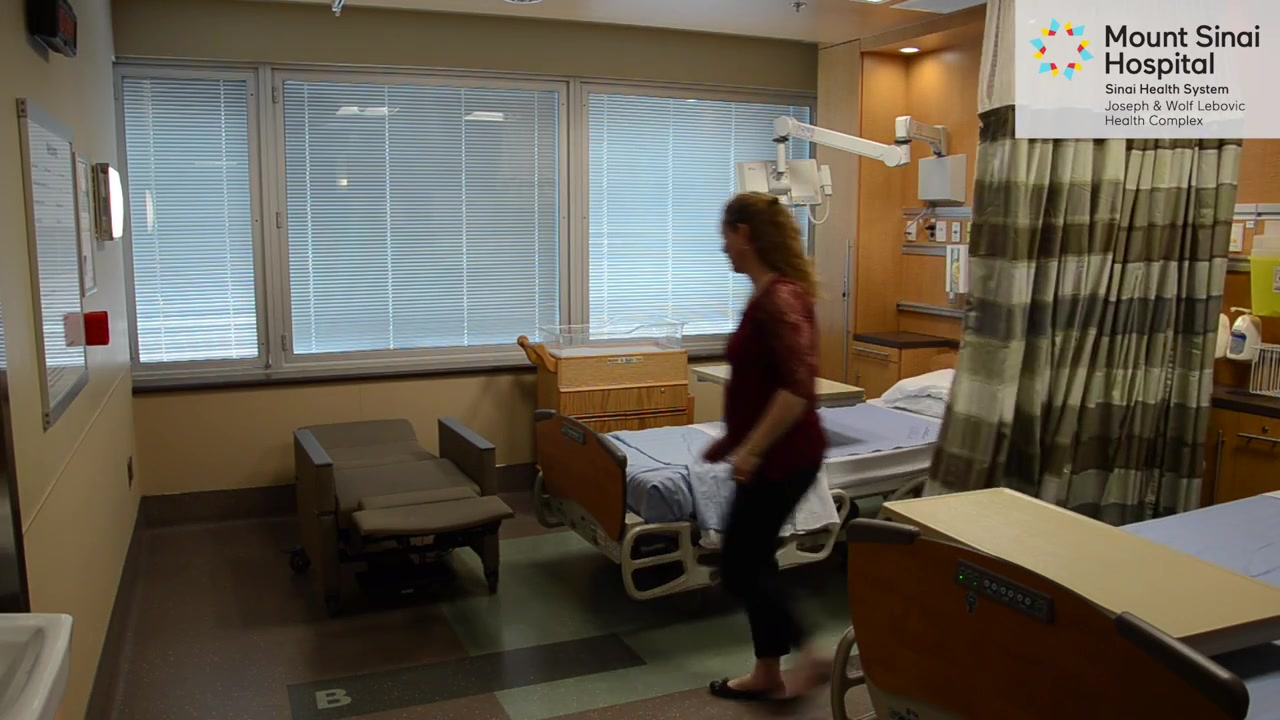bedrail: (615, 486, 858, 602), (829, 625, 877, 720)
bedside_monitor: (731, 155, 834, 214)
bedside_table: (849, 330, 961, 400)
curtain: (917, 1, 1244, 524)
dispenser: (1225, 305, 1265, 365), (943, 243, 971, 303)
foot_board: (844, 516, 1250, 717), (530, 407, 630, 565)
handle: (1202, 427, 1230, 507), (840, 237, 852, 383), (1236, 429, 1280, 452), (849, 341, 891, 359)
hospital_bed: (830, 485, 1280, 720), (530, 366, 957, 608)
overbed_table: (872, 485, 1280, 658), (691, 362, 868, 410)
person: (698, 189, 842, 707)
sofa: (288, 411, 517, 617)
table: (539, 341, 690, 424)
